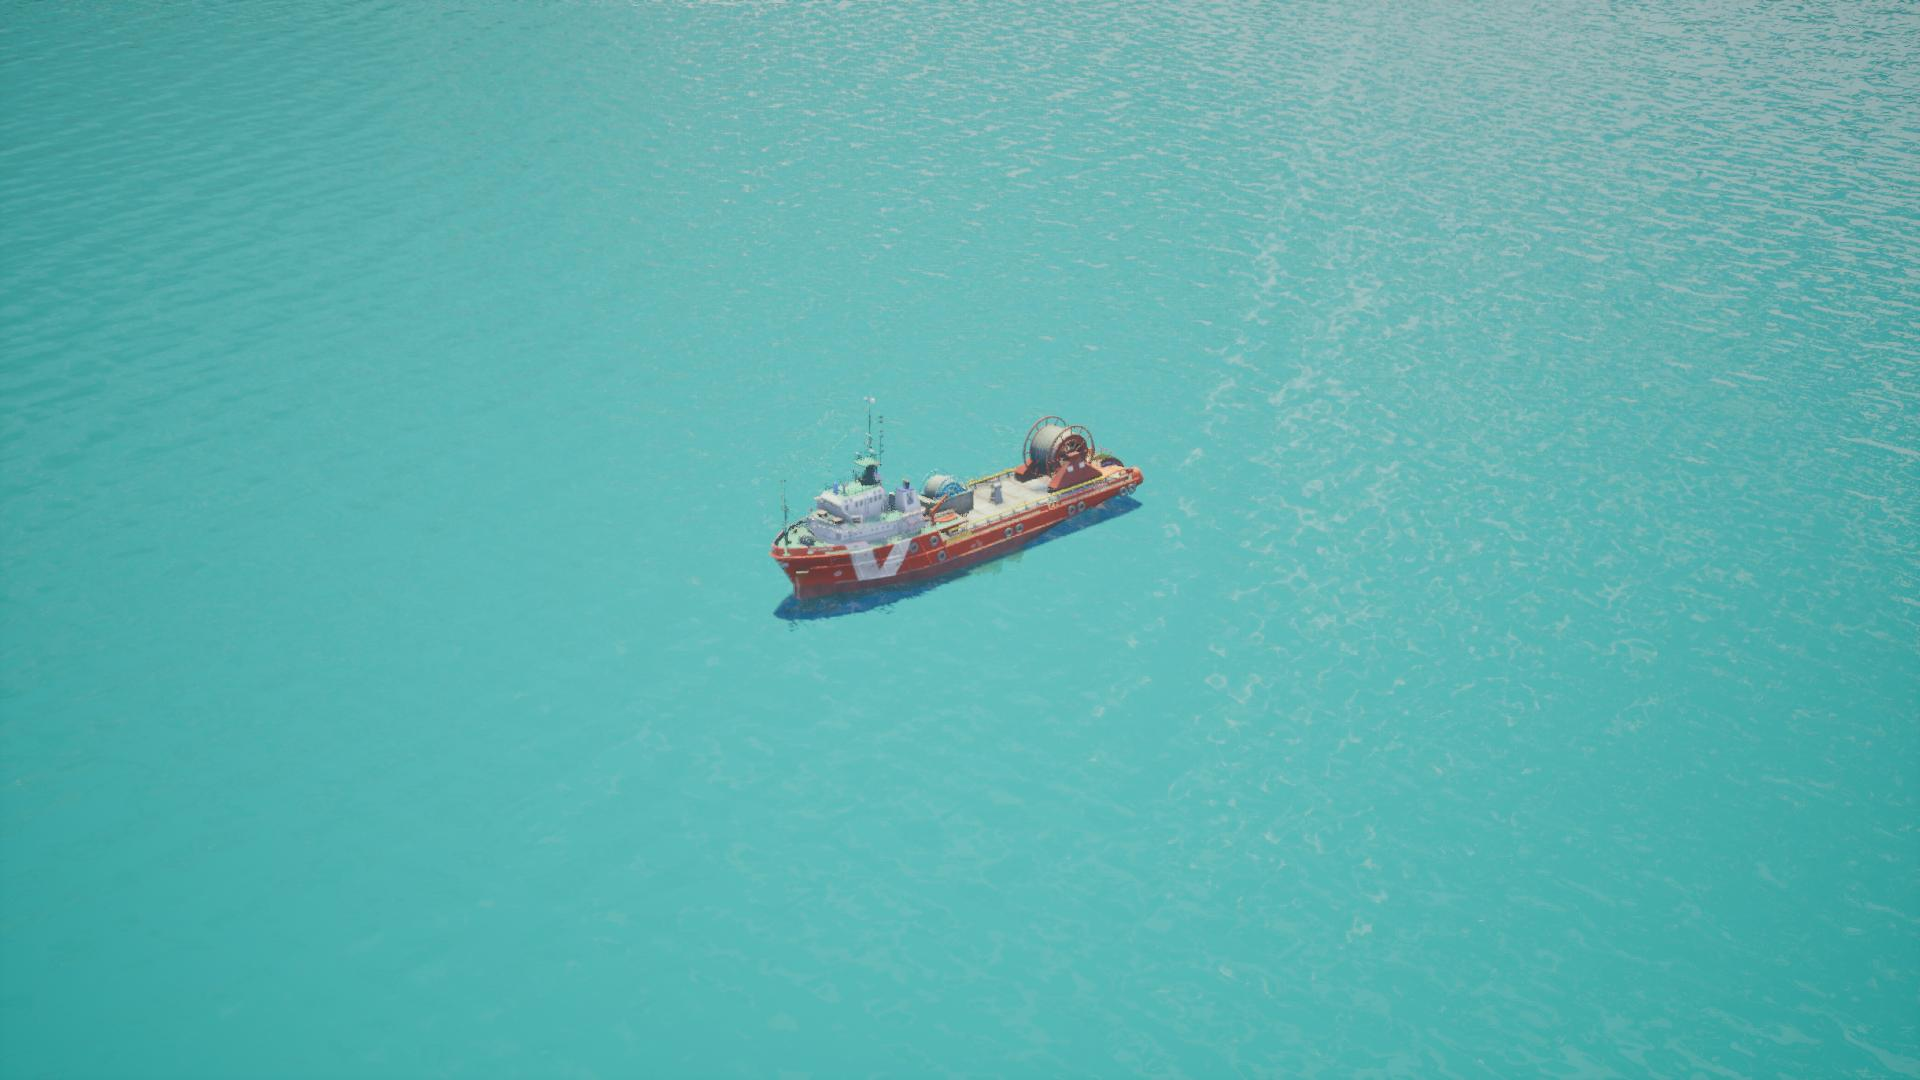Tug Boat: (766, 418, 1147, 624)
